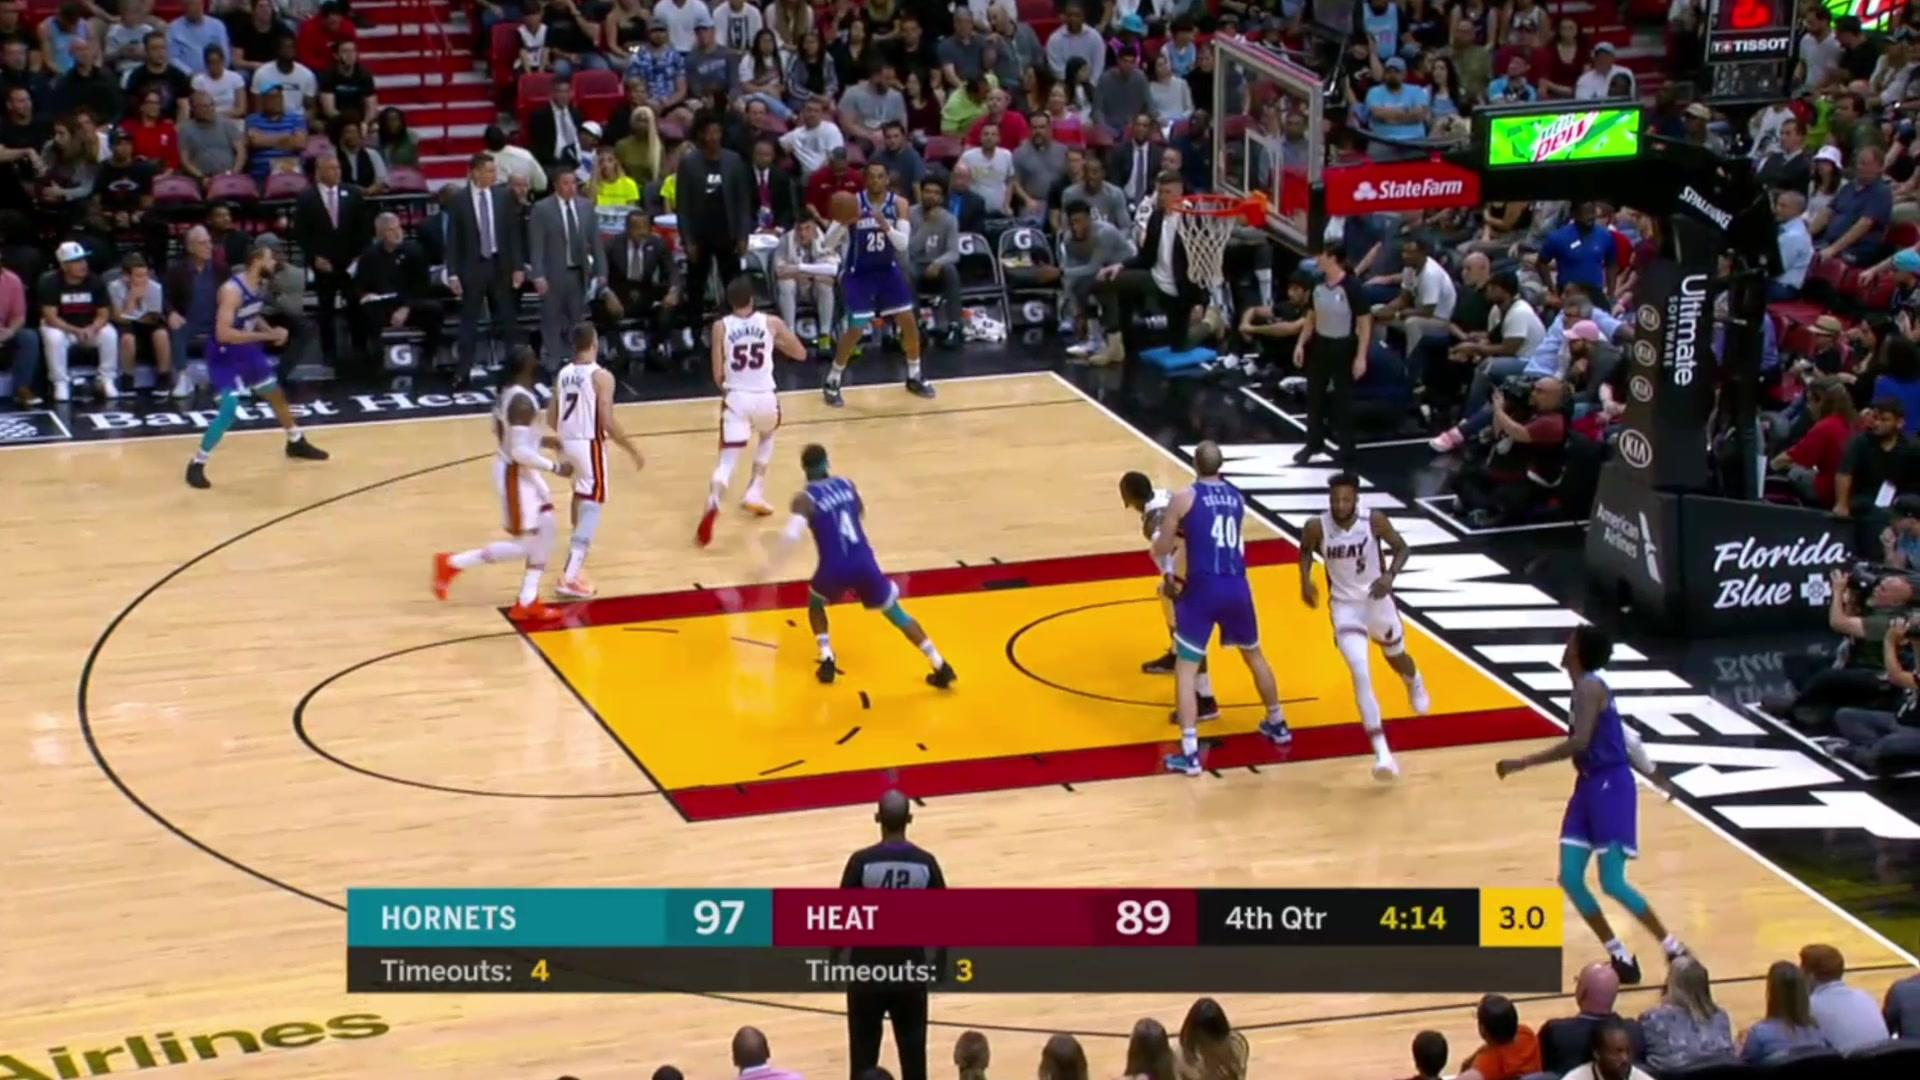no_foul: (1118, 451, 1271, 744)
